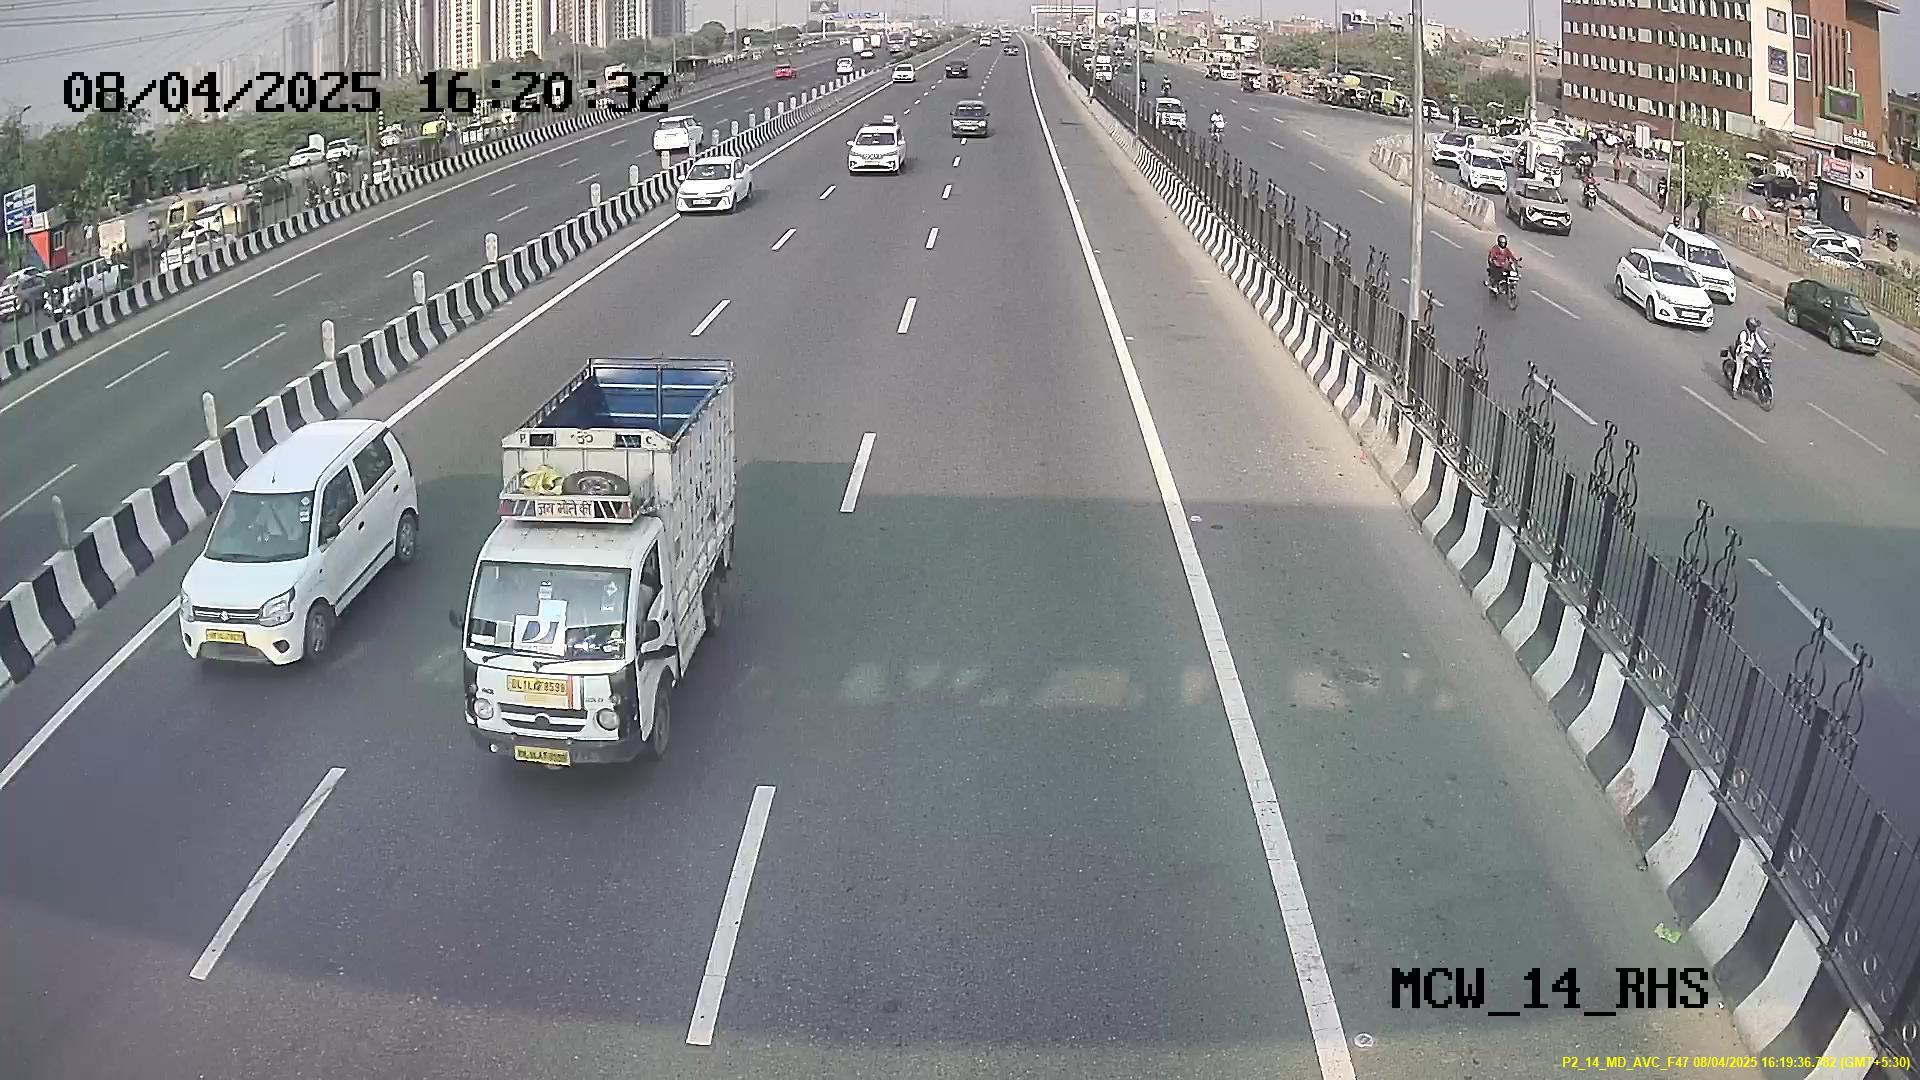car: (456, 472, 686, 771), (173, 462, 369, 671)
